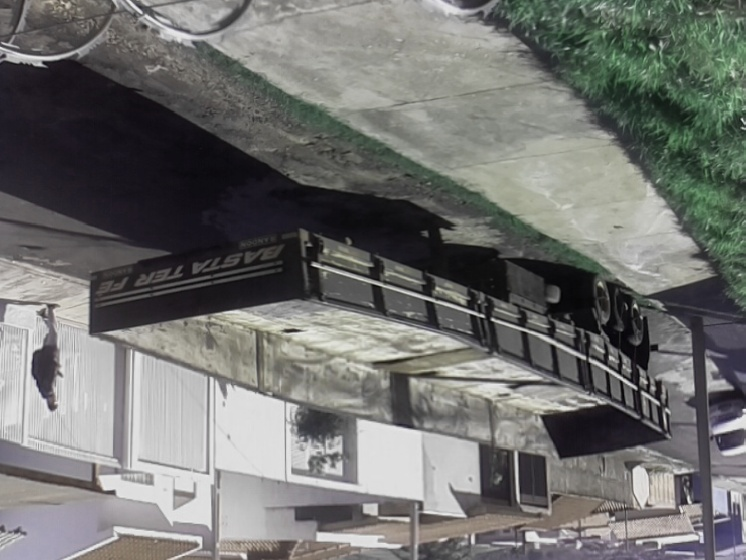person: (28, 302, 67, 413)
